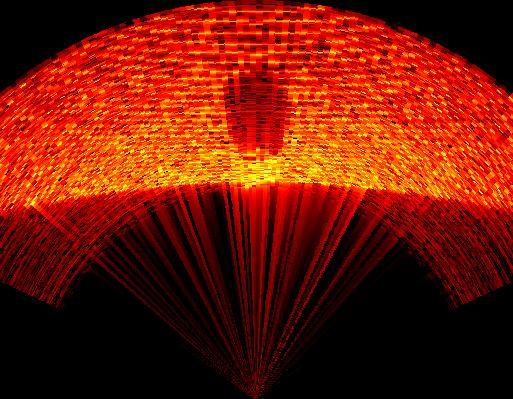box_crate: (222, 60, 291, 163)
